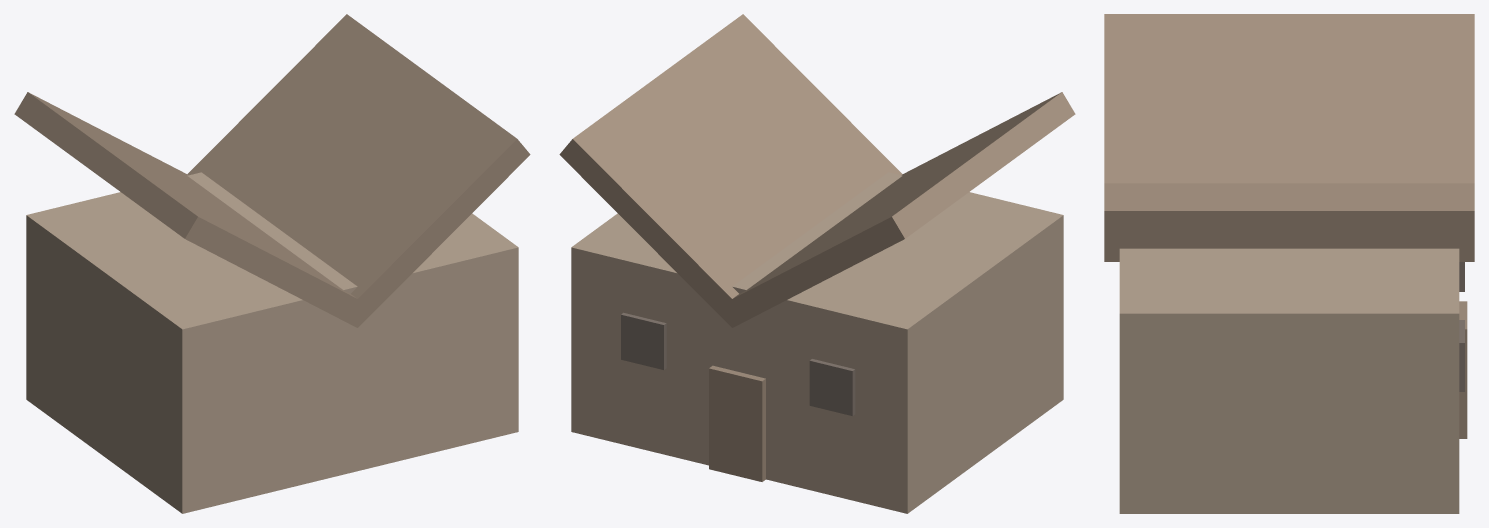
The picture shows the model from 3 angles, left to right: view 1: azimuth 30°, elevation 25°; view 2: azimuth 150°, elevation 25°; view 3: azimuth 270°, elevation 25°; orthographic projection. The views are drawn at different scales.
Parts seen in each view (by area): view 1: stick-walls, roof-right, roof-left; view 2: stick-walls, roof-right, roof-left, door, window-left, window-right; view 3: stick-walls, roof-left, roof-right, door, window-right.
Boxes of the visible parts, x1=… form: stick-walls: x1=26, y1=172, x2=518, y2=513; roof-right: x1=187, y1=14, x2=530, y2=327; roof-left: x1=14, y1=92, x2=370, y2=327; stick-walls: x1=571, y1=172, x2=1063, y2=513; roof-right: x1=559, y1=14, x2=902, y2=327; roof-left: x1=720, y1=92, x2=1075, y2=327; door: x1=709, y1=365, x2=765, y2=481; window-left: x1=809, y1=359, x2=855, y2=415; window-right: x1=621, y1=312, x2=666, y2=369; stick-walls: x1=1119, y1=248, x2=1459, y2=513; roof-left: x1=1104, y1=14, x2=1474, y2=183; roof-right: x1=1104, y1=183, x2=1474, y2=261; door: x1=1459, y1=301, x2=1467, y2=438; window-right: x1=1459, y1=320, x2=1464, y2=391.
Size of the model in its own units: 8.43 by 7 by 7.2.
